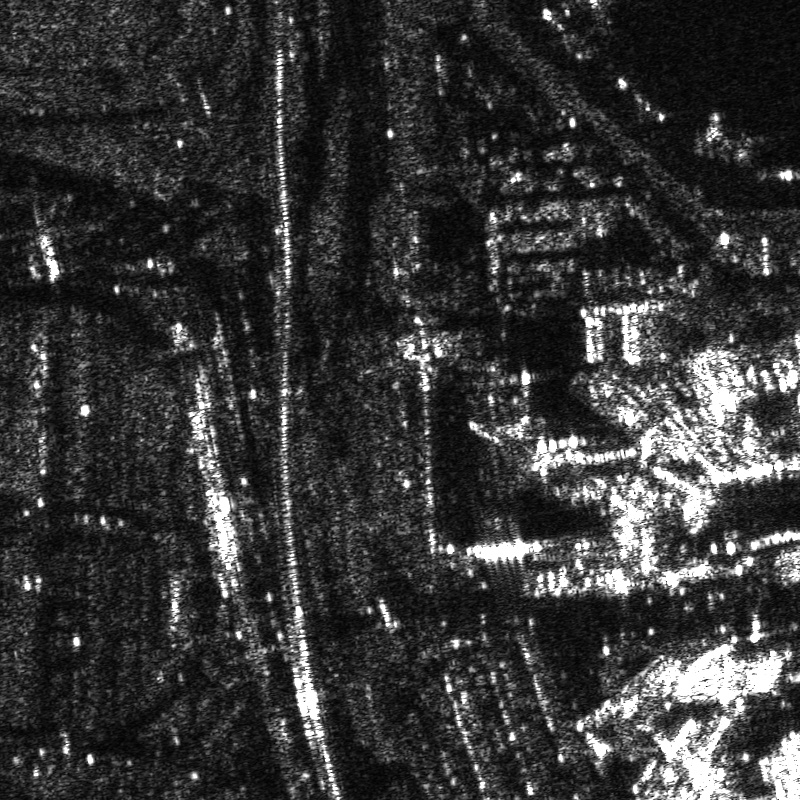A220: (551, 1, 655, 30)
